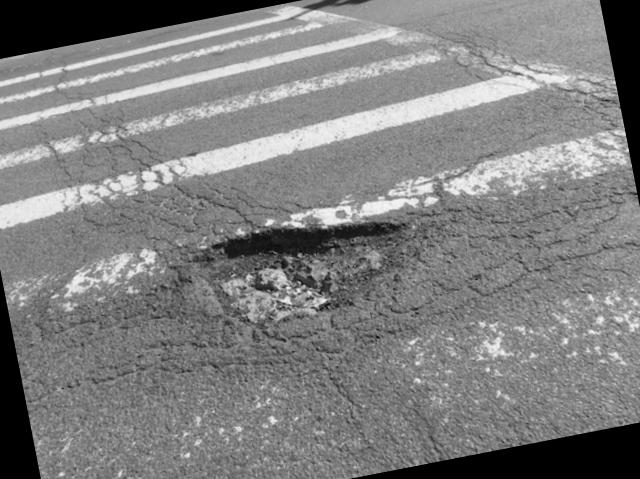Pothole: (159, 197, 426, 365)
